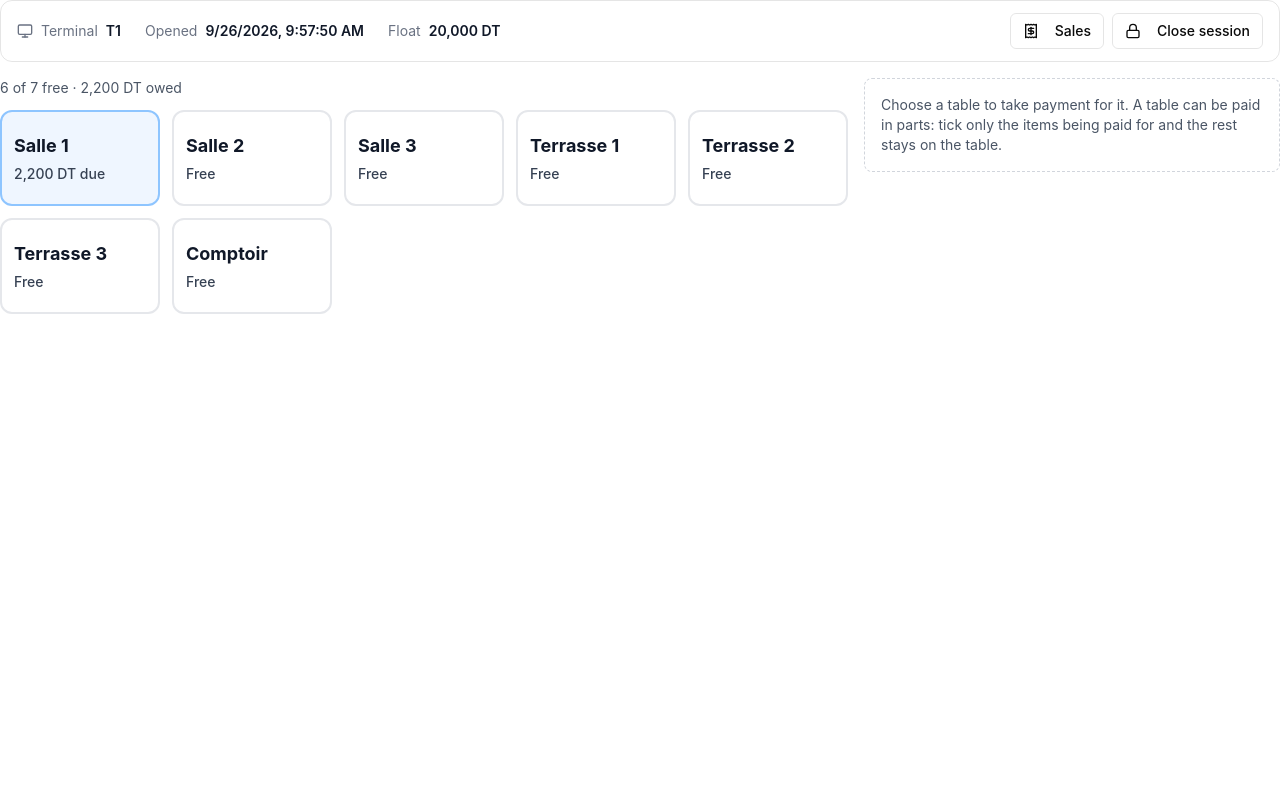
Test: paying a table › records the payment and shows the receipt this terminal numbered
Click the button "Salle 1 2,200 DT due". click: (80, 158)
box: [0,110,160,206]
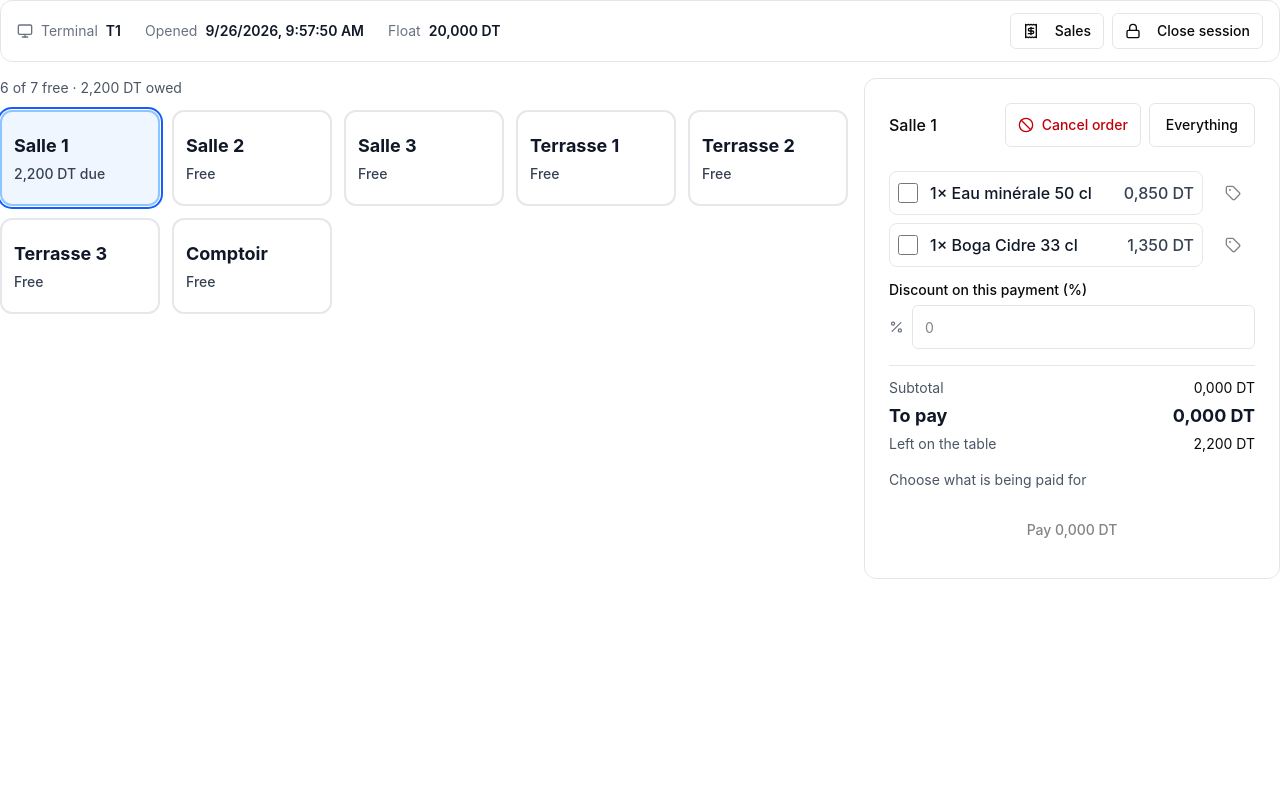
Click the checkbox labelled "1× Eau minérale 50 cl 0,850 DT". click: (908, 193)
box: [898,183,918,203]
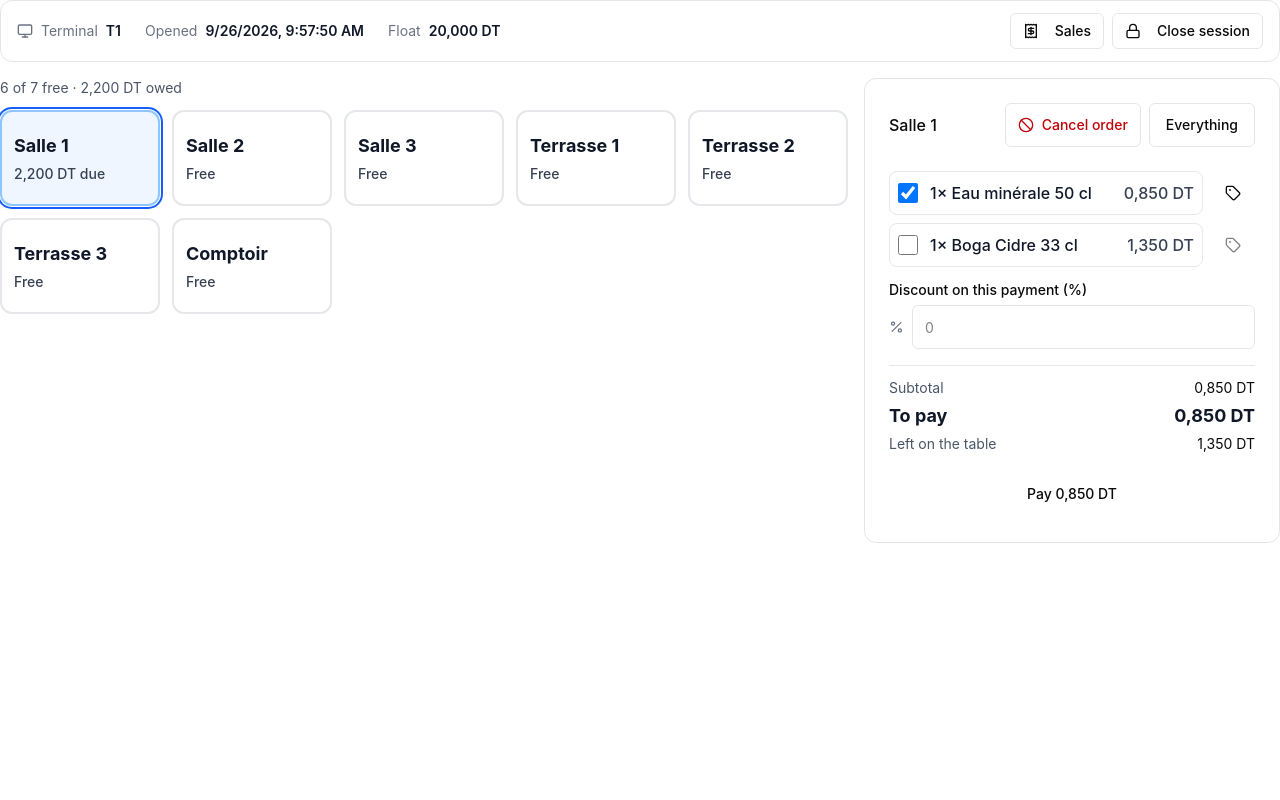
Click the button "Pay 0,850 DT". click: (1072, 494)
box: [889,470,1255,518]
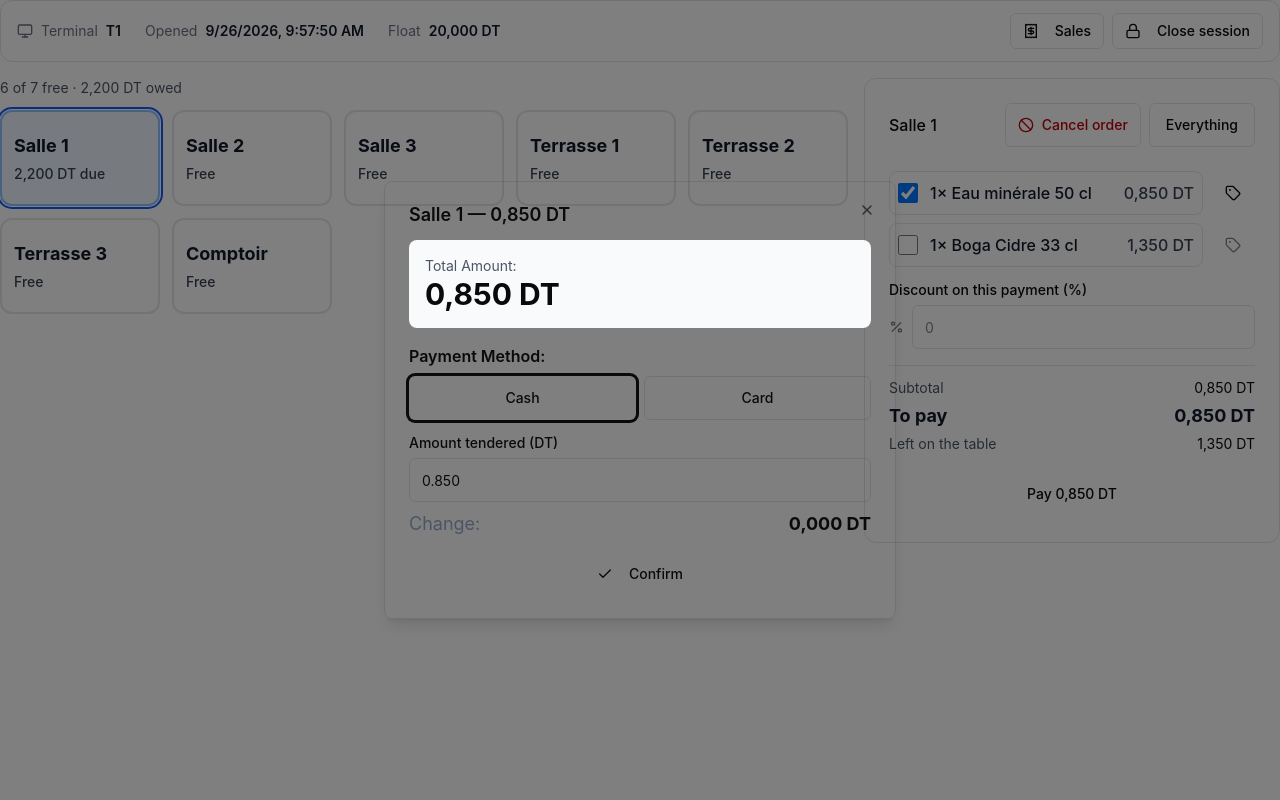
Result: the heading "Salle 1 — 0,850 DT" is shown at [409,204,570,225]
Click the button "Confirm". click: (640, 574)
box: [409,554,871,594]
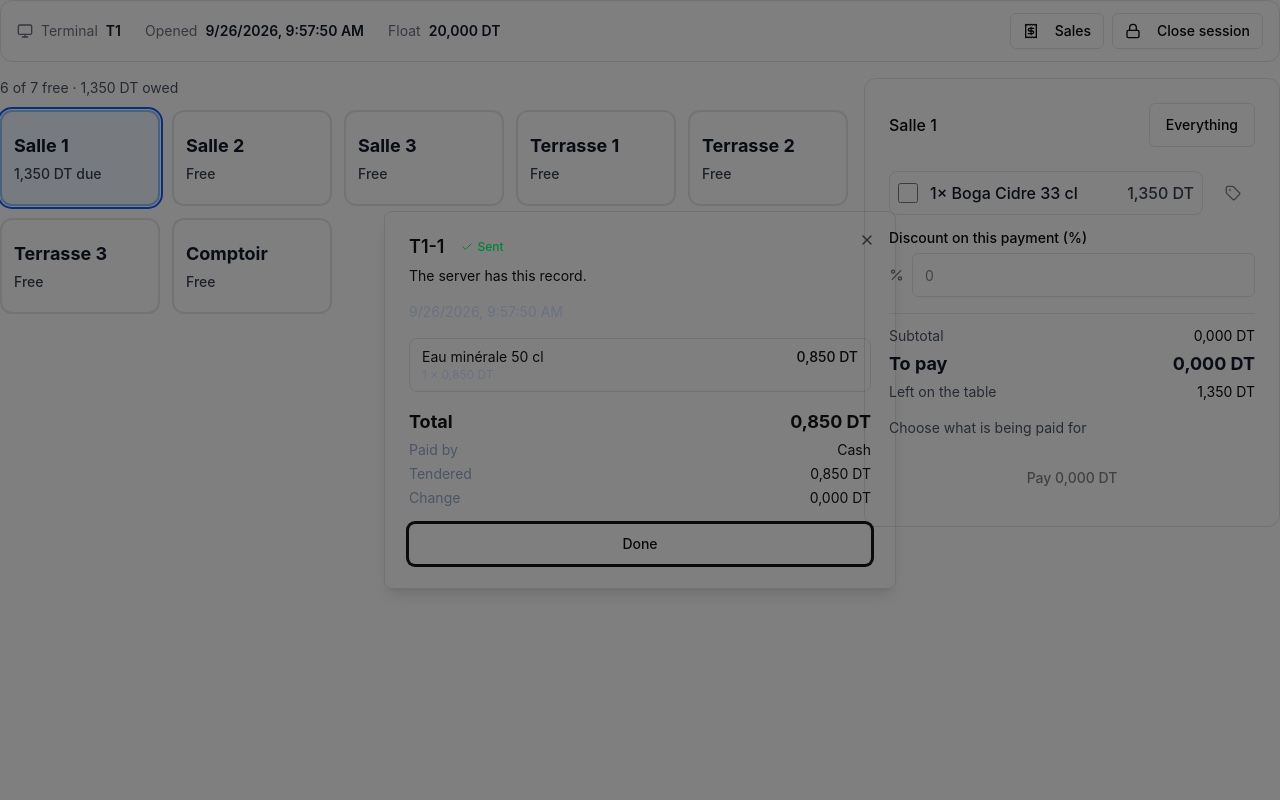
Result: the heading "T1-1 Sent" is shown at [409,236,504,257]
